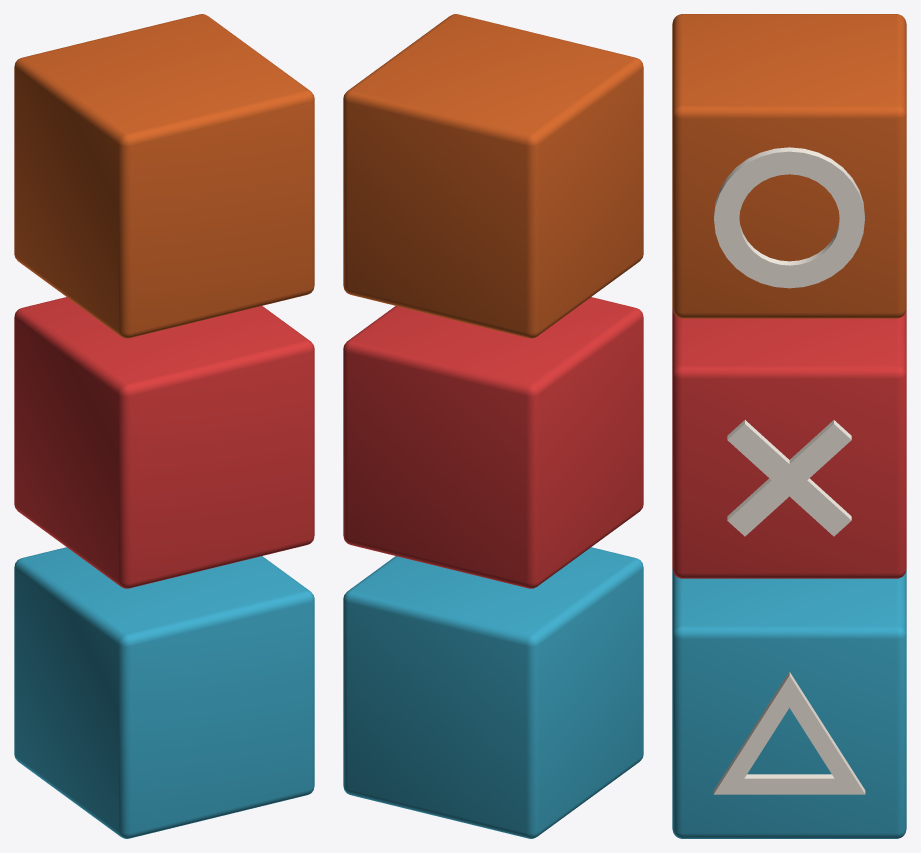
The model's file is Play Icons.fbx.
3 renders of one model, left to right at view 1: azimuth 30°, elevation 25°; view 2: azimuth 150°, elevation 25°; view 3: azimuth 270°, elevation 25°, orthographic. The views are drawn at different scales.
Visible parts, largest first — view 1: Cube_2_4, Cube_1_6, Cube_7_2; view 2: Cube_2_4, Cube_1_6, Cube_7_2; view 3: Cube_2_4, Cube_7_2, Cube_1_6, Tube_3, Extrude_5, Cube_6_3, Cube_3_4.
Part boxes in pixels (x1,y1,x2,y2): Cube_2_4: (14, 14, 314, 338); Cube_1_6: (14, 297, 314, 588); Cube_7_2: (14, 547, 314, 838); Cube_2_4: (343, 14, 643, 338); Cube_1_6: (343, 297, 643, 588); Cube_7_2: (343, 547, 643, 838); Cube_2_4: (672, 14, 906, 318); Cube_7_2: (672, 569, 906, 838); Cube_1_6: (672, 309, 906, 578); Tube_3: (714, 147, 864, 288); Extrude_5: (713, 671, 865, 794); Cube_6_3: (727, 420, 851, 536); Cube_3_4: (727, 420, 851, 536).
Bounding box in the file's own units: 48.62 × 161 × 46.56.
